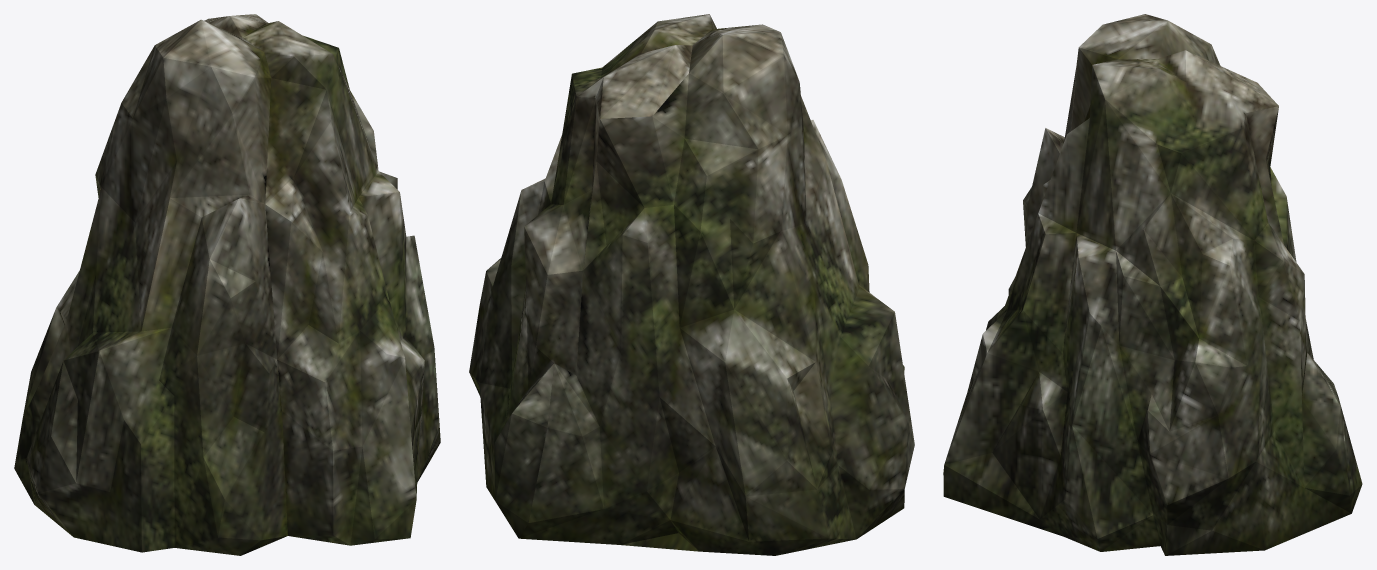
File: d_sd_shitou03_st.FBX
The picture shows the model from 3 angles, left to right: view 1: azimuth 30°, elevation 25°; view 2: azimuth 150°, elevation 25°; view 3: azimuth 270°, elevation 25°; orthographic projection. The views are drawn at different scales.
Visible parts, largest first — view 1: d_sd_shitou03_st_A; view 2: d_sd_shitou03_st_A; view 3: d_sd_shitou03_st_A.
Boxes of the visible parts, left/top/right/bottom form: d_sd_shitou03_st_A: left=14, top=14, right=440, bottom=555; d_sd_shitou03_st_A: left=469, top=14, right=914, bottom=555; d_sd_shitou03_st_A: left=943, top=14, right=1362, bottom=555.
Bounding box in the file's own units: 1036 × 1158 × 994.
